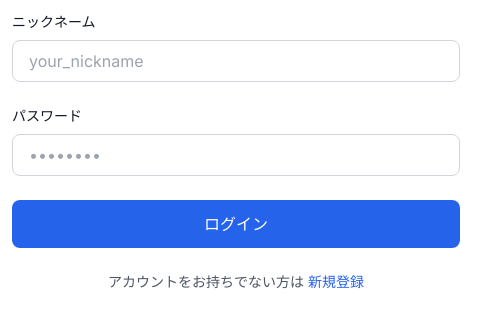
Test: LoginForm › Validation › should show validation error for short nickname
Type "ab" into the field labelled "ニックネーム" at (236, 61), box [12,40,460,82]
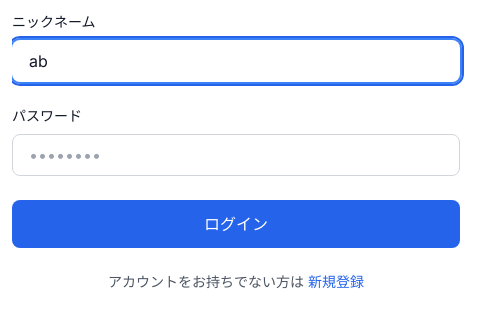
Type "password123" into the password field labelled "パスワード" at (236, 155), box [12,134,460,176]
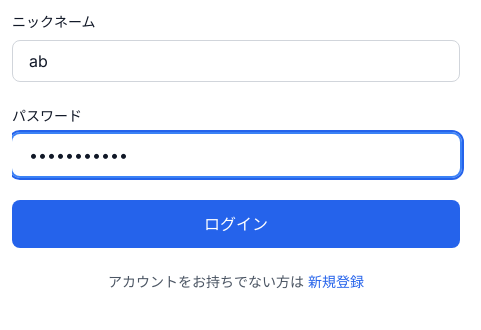
Submit the form directly to bypass HTML5 validation
Submit the form named "ログインフォーム"
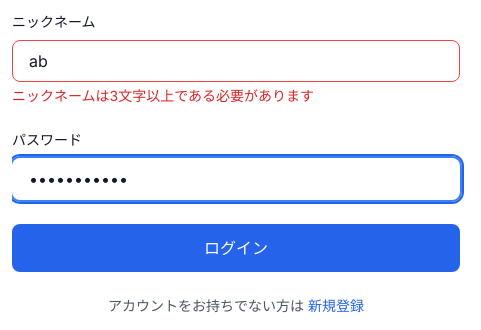
Expected: the text "ニックネームは3文字以上である必要があります" is shown, [12,87,314,104]
